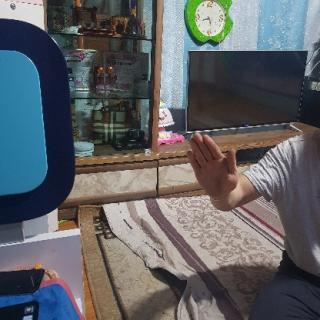SEEN: (183, 127, 241, 200)
